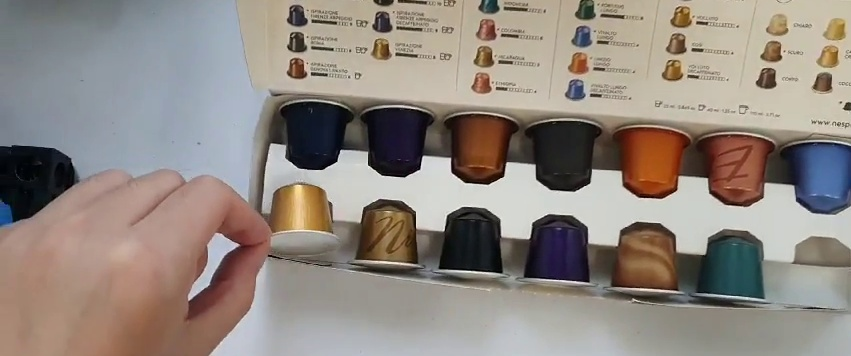capsule_8: (262, 180, 343, 257)
